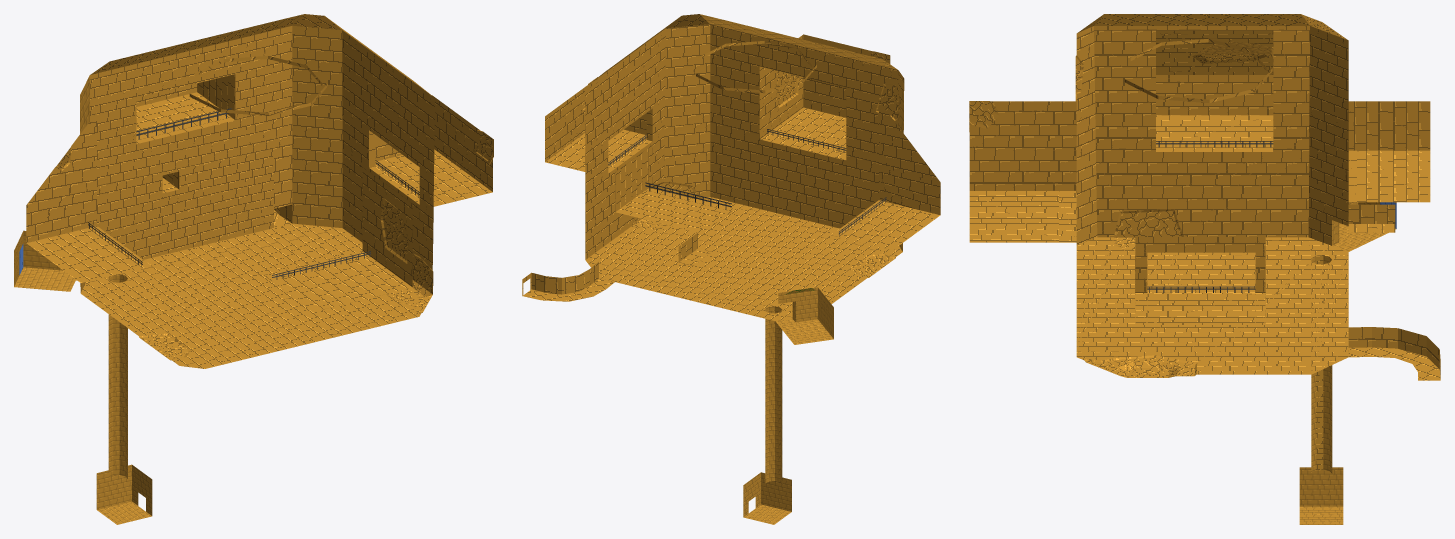
The model's file is entryway_hive.gltf.
The picture shows the model from 3 angles, left to right: view 1: azimuth 30°, elevation 25°; view 2: azimuth 150°, elevation 25°; view 3: azimuth 270°, elevation 25°; orthographic projection. The views are drawn at different scales.
Visible parts, largest first — view 1: entryway_hive-col; view 2: entryway_hive-col; view 3: entryway_hive-col.
Boxes of the visible parts, x1=… form: entryway_hive-col: x1=14, y1=14, x2=493, y2=524; entryway_hive-col: x1=522, y1=14, x2=940, y2=524; entryway_hive-col: x1=969, y1=14, x2=1440, y2=524.
Size of the model in its own units: 59.62 by 64.32 by 56.52.
Materials: 7 (7 with a texture image).
